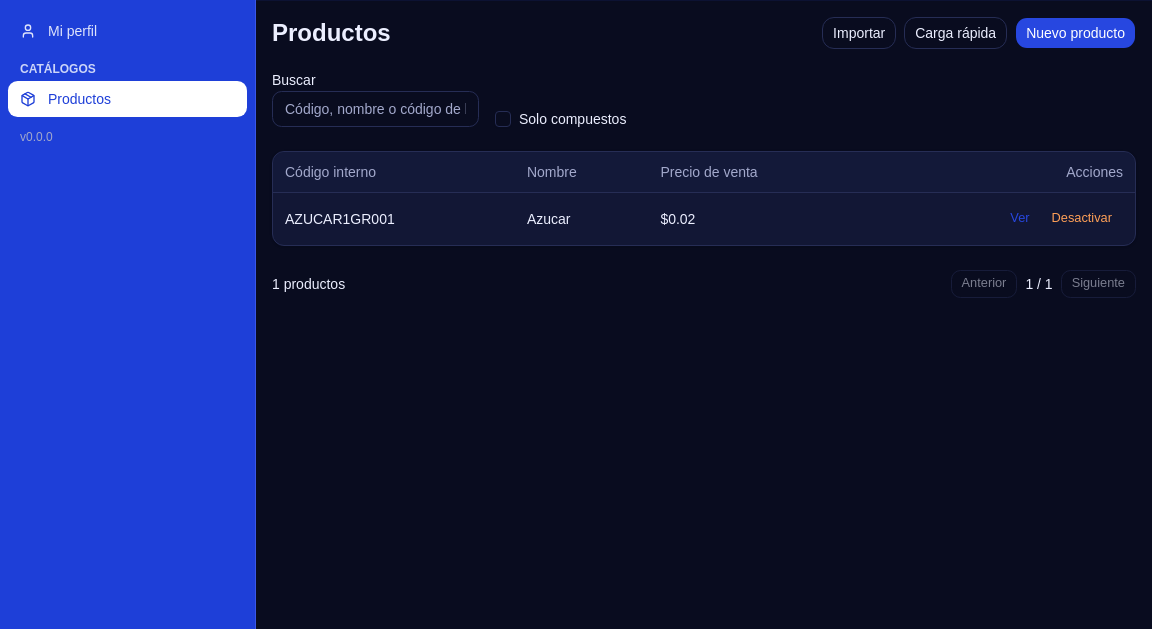
Scenario: Borrar un producto (F2-PROD) › recién al confirmar se borra
Click the button "Ver ".
click(1020, 218)  # box [999,204,1040,232]
(page scrolled)
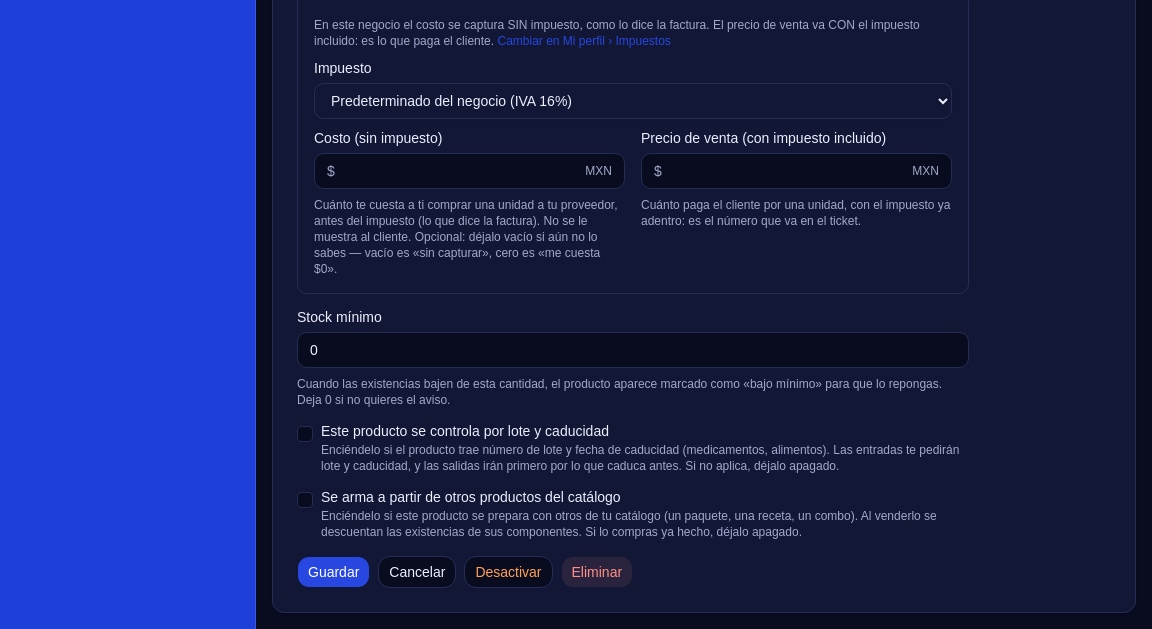
Click the button "Eliminar".
click(597, 572)  # box [560,556,633,588]
(page scrolled)
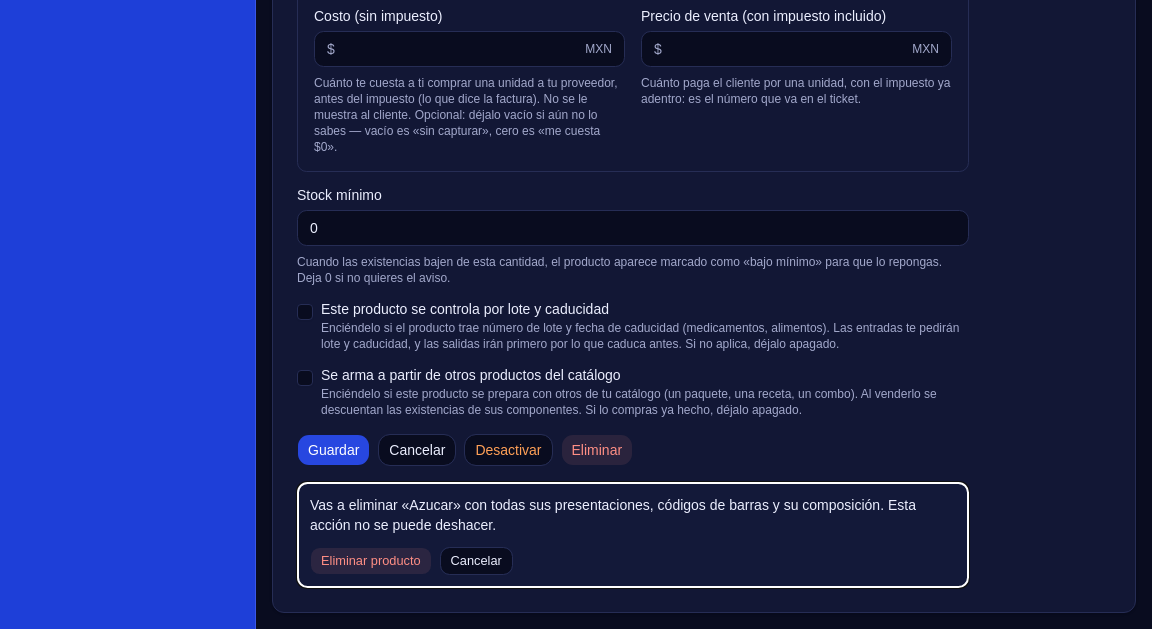
Click the button "Eliminar producto".
click(371, 561)  # box [310,547,432,575]
(page scrolled)
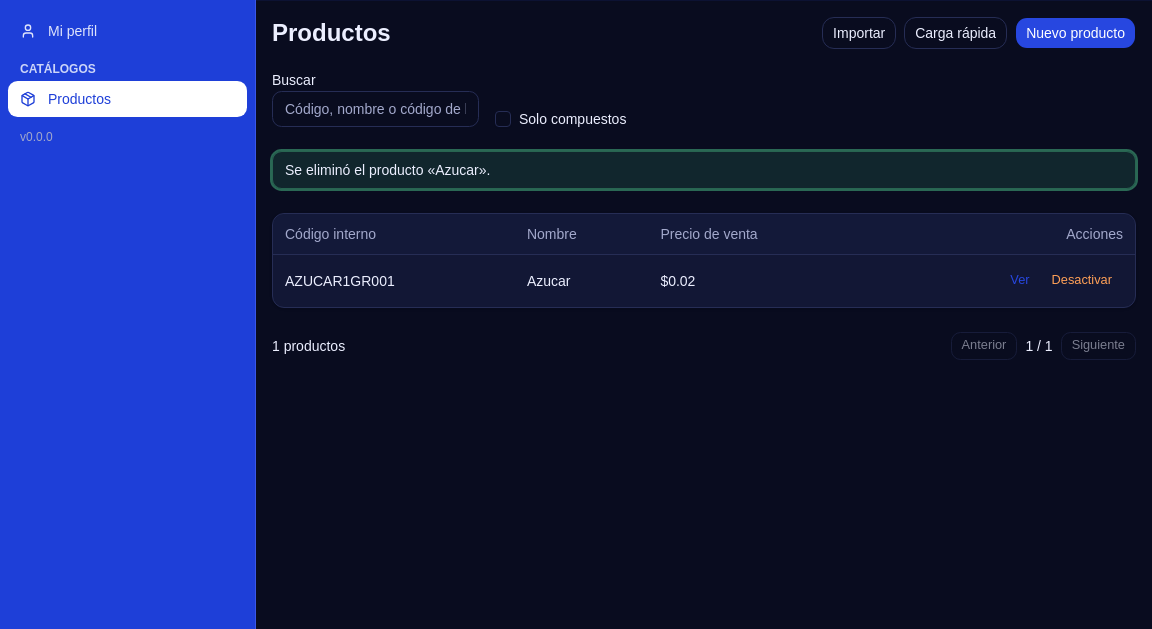
Now the message with test id "product-deleted" reads "Se eliminó el producto «Azucar».", box [285,162,490,178]
